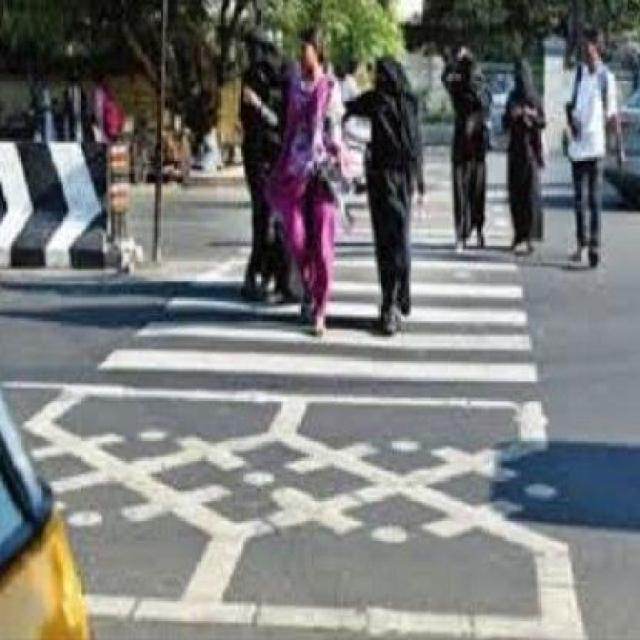Person: (274, 19, 346, 344), (348, 48, 428, 340), (563, 22, 628, 272), (440, 41, 491, 257), (505, 48, 547, 258)
